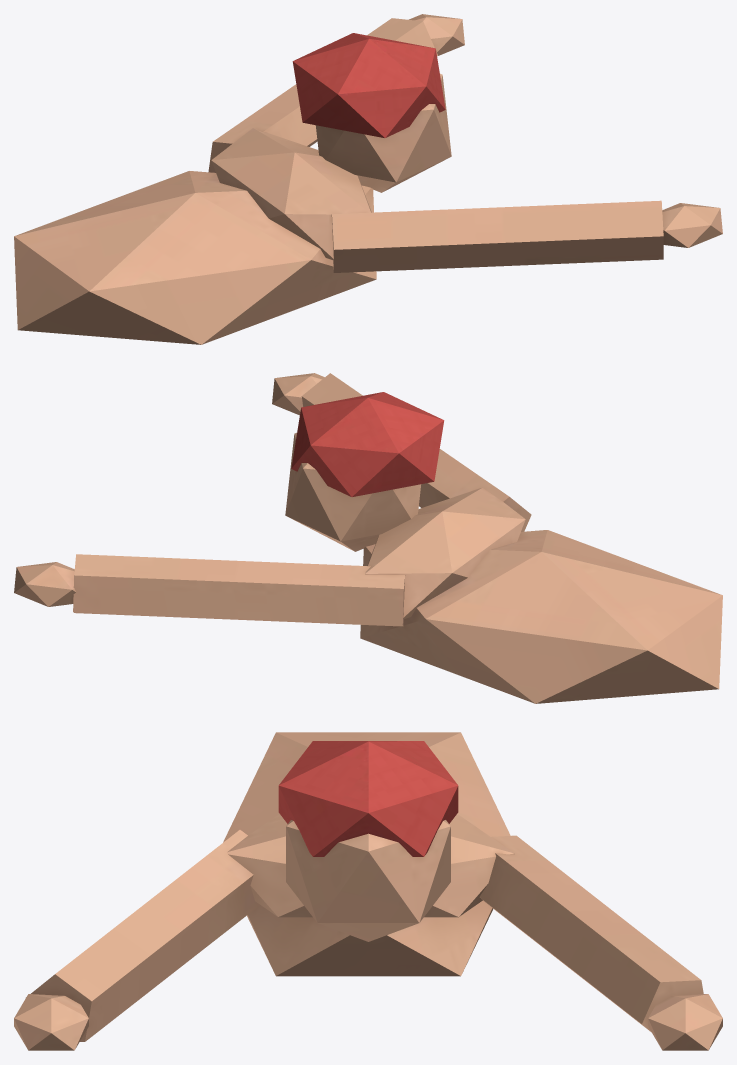
File: badare_tex.glb
3 views of the same model, one above another, from view 1: azimuth 30°, elevation 25°; view 2: azimuth 150°, elevation 25°; view 3: azimuth 270°, elevation 25° (orthographic). The views are drawn at different scales.
Visible parts, largest first — view 1: badare; view 2: badare; view 3: badare.
Boxes of the visible parts, x1,y1,x2,y2 form: badare: (14, 14, 722, 344); badare: (14, 373, 722, 703); badare: (14, 732, 722, 1050).
Bounding box in the file's own units: 0.9244 × 0.372 × 0.8051.
Materials: 2 (2 with a texture image).
